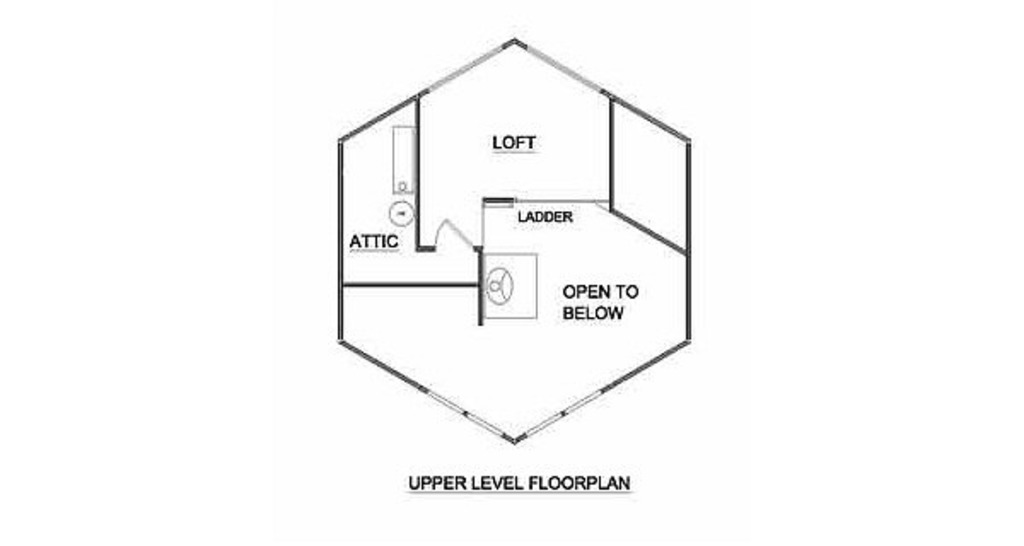door: (430, 212, 479, 259)
small_sink: (474, 262, 519, 316)
window: (422, 382, 609, 444)
